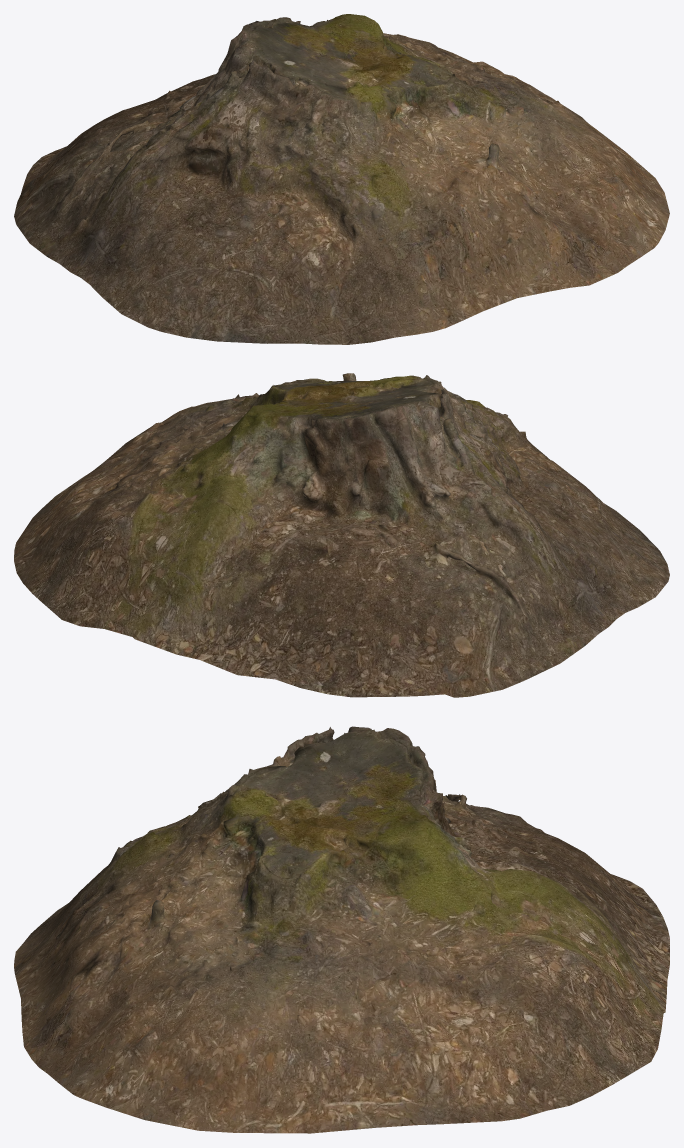
The model's file is stump_b.glb.
3 renders of one model, top to bottom at view 1: azimuth 30°, elevation 25°; view 2: azimuth 150°, elevation 25°; view 3: azimuth 270°, elevation 25°, orthographic. The views are drawn at different scales.
Visible parts, largest first — view 1: tree_stump_02; view 2: tree_stump_02; view 3: tree_stump_02.
Part boxes in pixels (x1,y1,x2,y2): tree_stump_02: [14, 14, 669, 344]; tree_stump_02: [14, 373, 669, 697]; tree_stump_02: [14, 726, 669, 1133].
Size of the model in its own units: 1.52 by 0.5214 by 1.39.
1 material, 1 textured.
